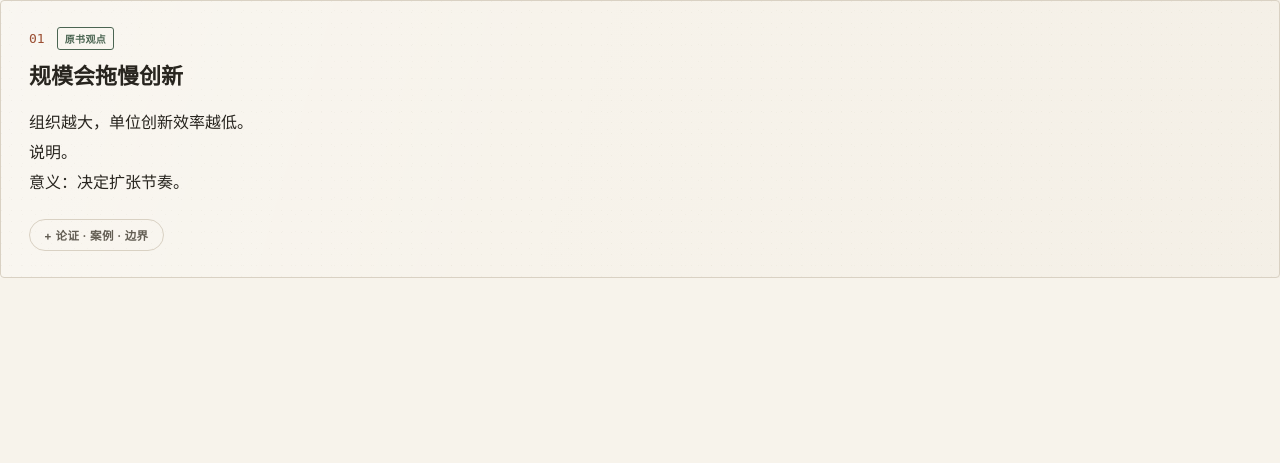
CoreIdeaSection › shows the warrant as an AI inference, never as something the author wrote
The width and height of the screenshot is (1280, 463).
Click the heading "论证 · 案例 · 边界": (96, 235) [29,219,164,251]
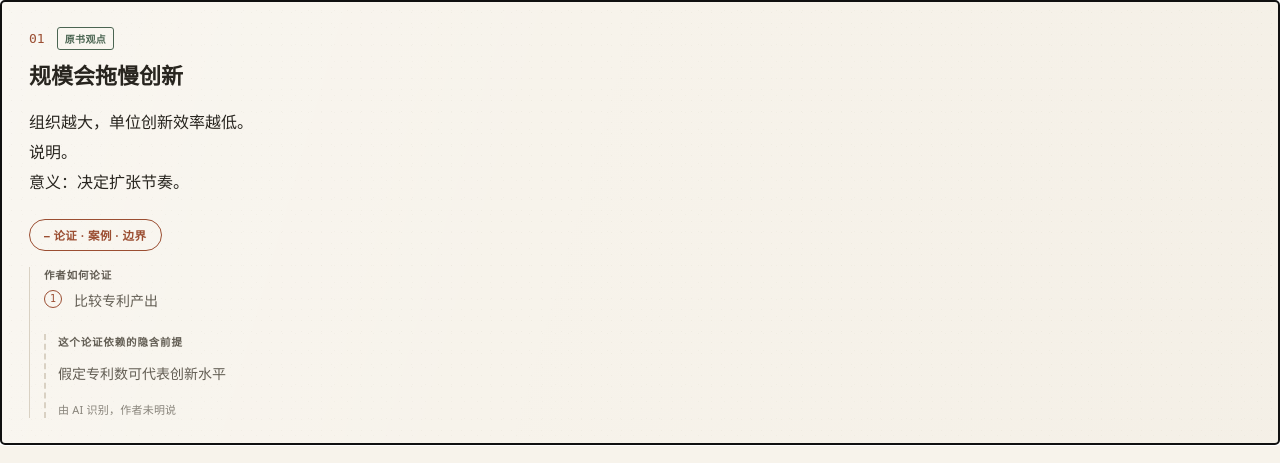
Expected: the heading "这个论证依赖的隐含前提" is shown, [58,336,183,349]
Expected: the text "假定专利数可代表创新水平" is shown, [58,367,226,382]
Expected: the text "由 AI 识别，作者未明说" is shown, [58,402,176,417]
